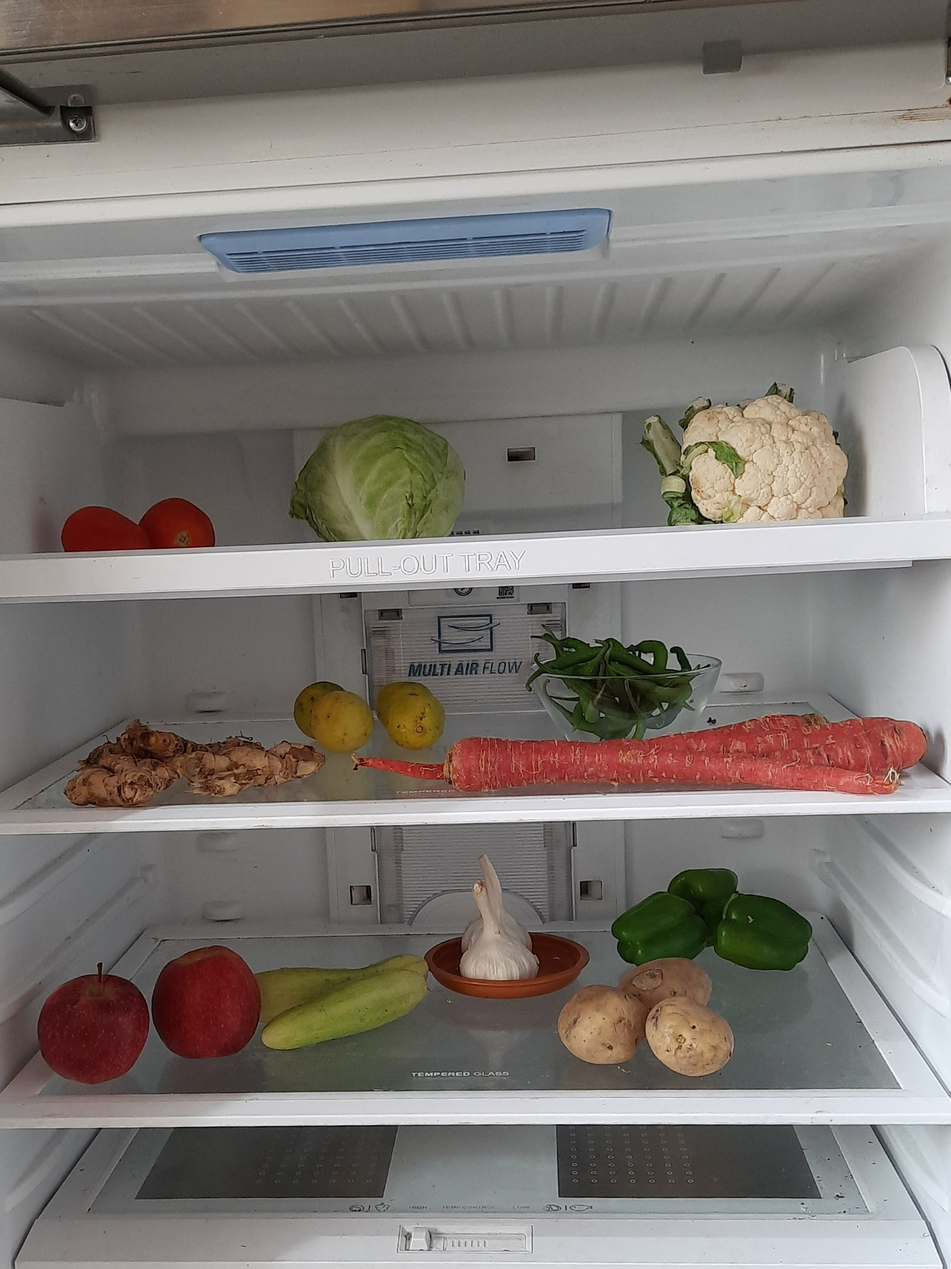apple: (40, 945, 268, 1083)
cabbage: (290, 414, 468, 541)
capsicum: (605, 862, 806, 968)
carrots: (314, 732, 929, 832)
cauliflower: (646, 386, 851, 527)
chillies: (535, 634, 696, 723)
cucumber: (255, 960, 429, 1054)
garlic: (453, 848, 541, 983)
ginger: (60, 732, 329, 810)
lemon: (293, 674, 377, 754)
potato: (558, 960, 737, 1079)
tomato: (60, 496, 211, 554)
